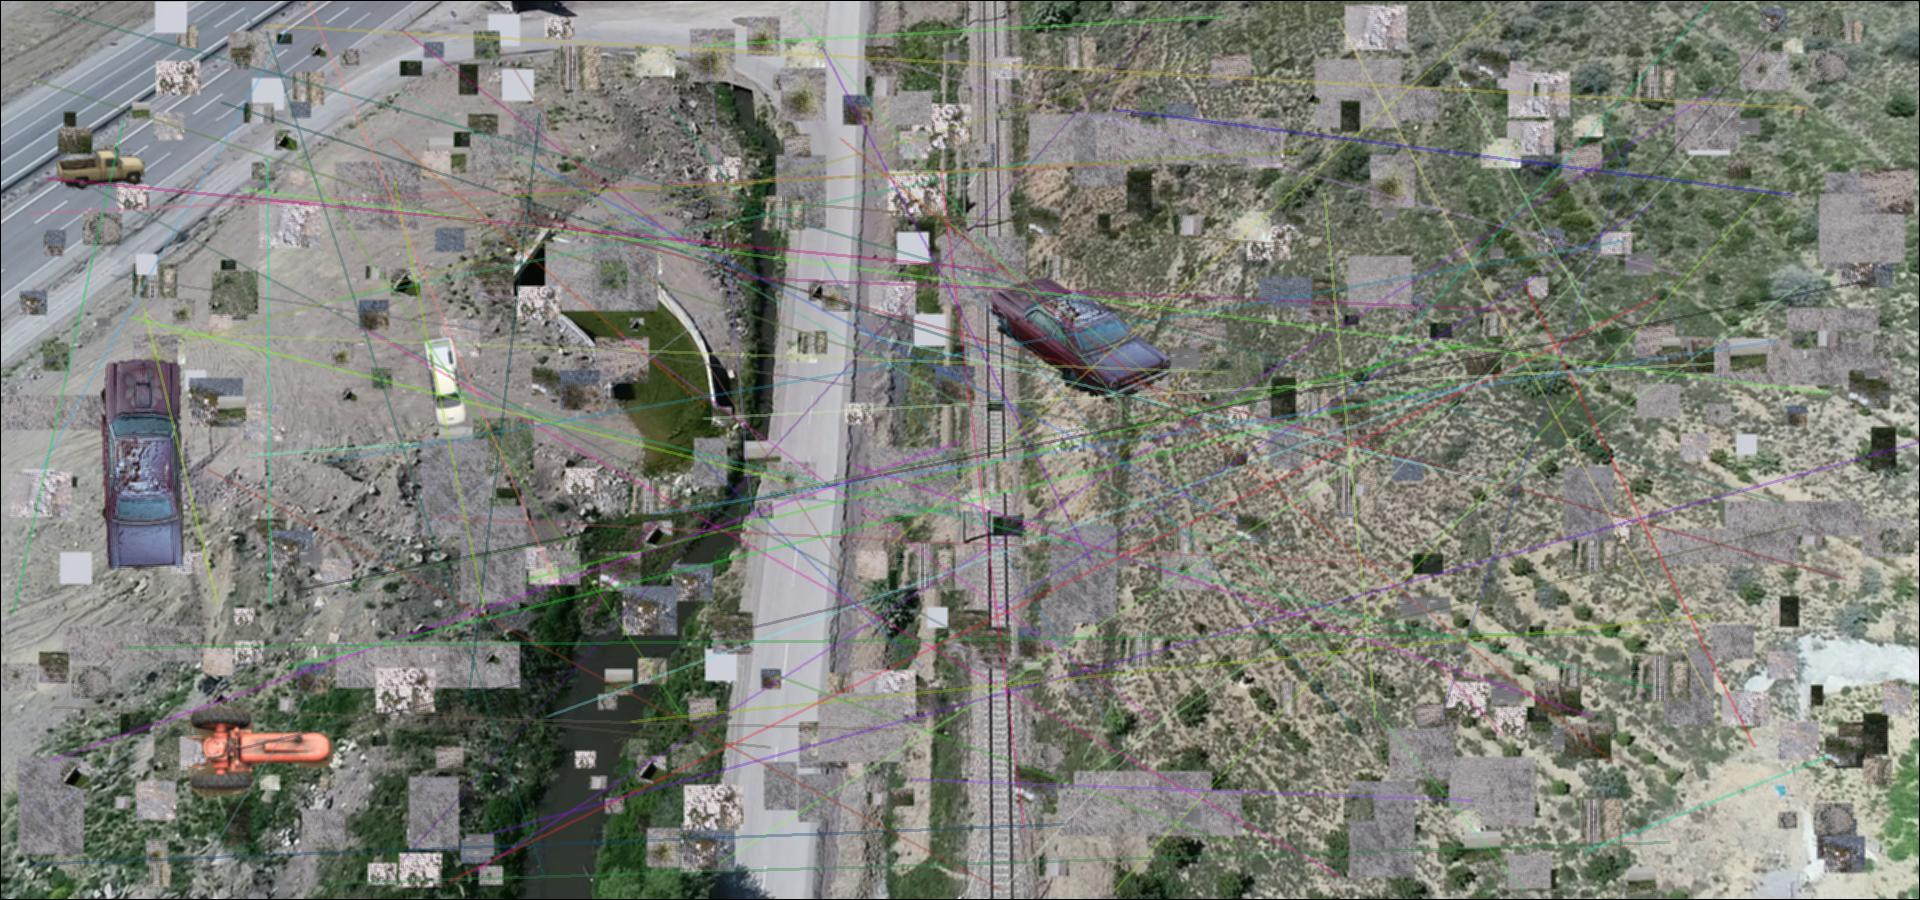arac: (980, 262, 1178, 403), (93, 358, 191, 574), (187, 704, 336, 798), (420, 338, 471, 430), (58, 148, 146, 192)
